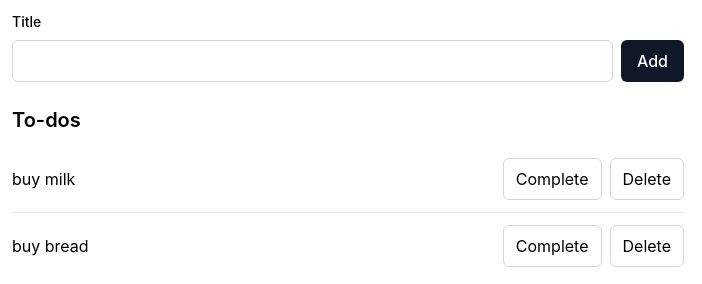
TodoItem › deletes with 204 and focuses the heading, empty=false
Click the button with aria-label "Delete buy milk": (647, 179) [610, 158, 684, 200]
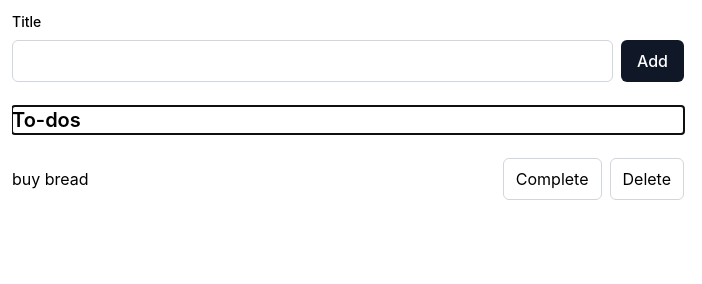
Check: the text "buy bread" is shown, box [12, 169, 89, 189]
Check: the text "buy milk" is gone
